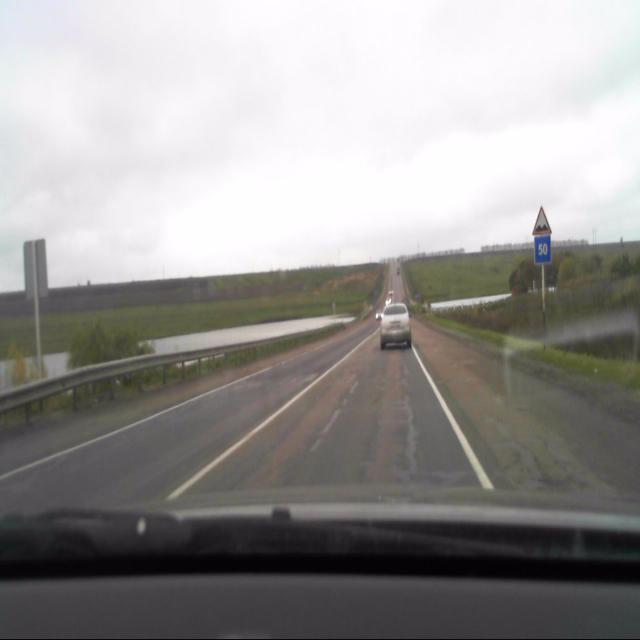object: (540, 265, 548, 353)
road sign: (532, 204, 552, 234), (534, 236, 551, 265)
